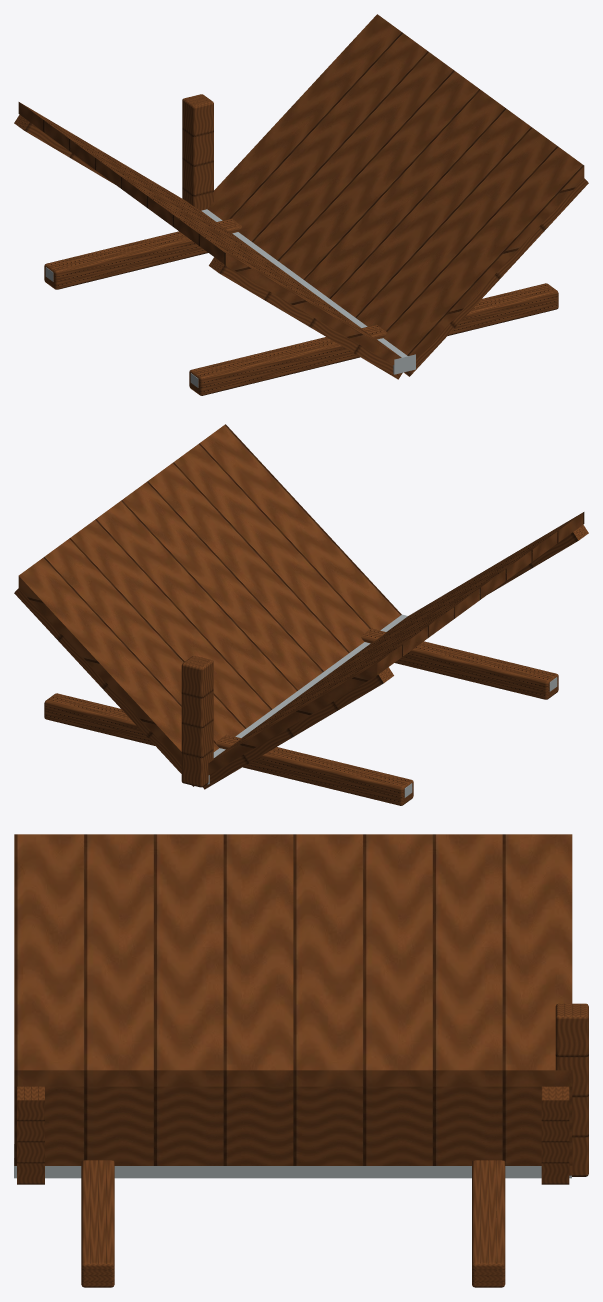
File: modular-survival-base-builder-roof-valley-junction-rei-3c37740a__24310.glb
The picture shows the model from 3 angles, top to bottom: view 1: azimuth 30°, elevation 25°; view 2: azimuth 150°, elevation 25°; view 3: azimuth 270°, elevation 25°; orthographic projection. The views are drawn at different scales.
Parts seen in each view (by area): view 1: roof-valley-junction-reinforced; view 2: roof-valley-junction-reinforced; view 3: roof-valley-junction-reinforced.
Part boxes in pixels (bbox=[...]): roof-valley-junction-reinforced: bbox=[14, 14, 588, 395]; roof-valley-junction-reinforced: bbox=[14, 424, 588, 805]; roof-valley-junction-reinforced: bbox=[14, 834, 588, 1287].
Size of the model in its own units: 2.06 by 0.9039 by 2.06.
Materials: 2 (1 with a texture image).
